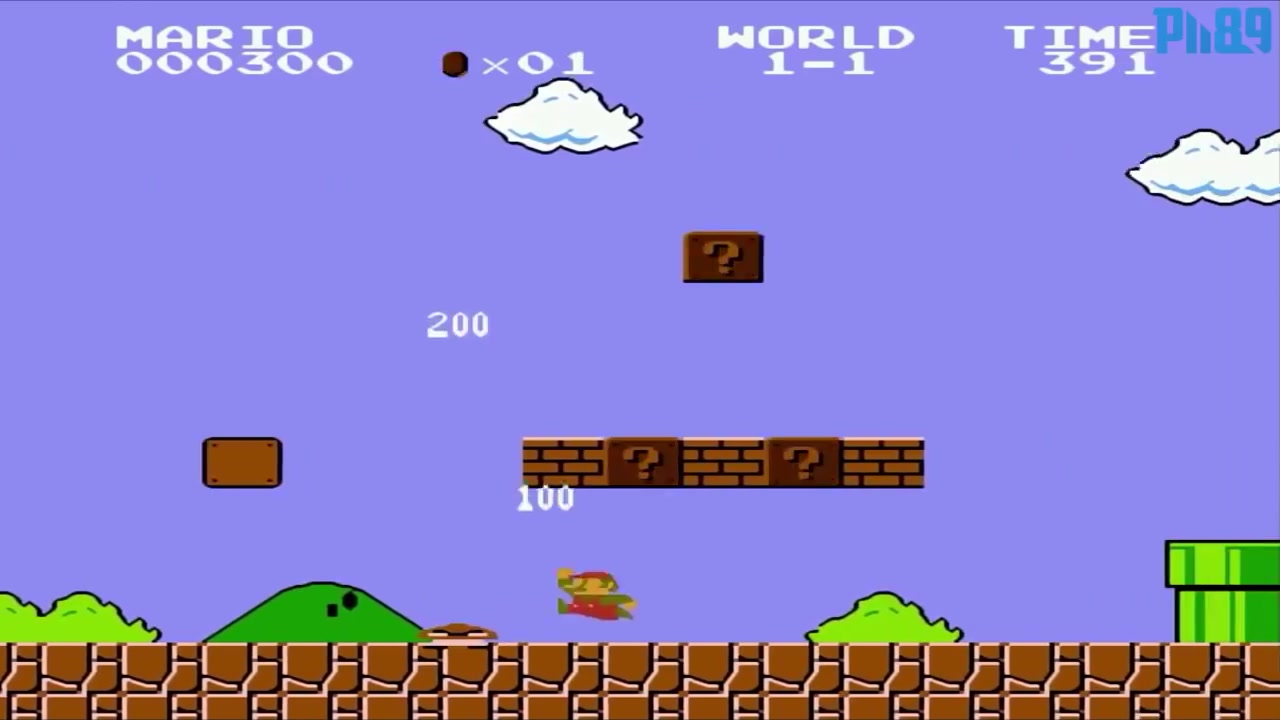mario: (543, 561, 642, 625)
